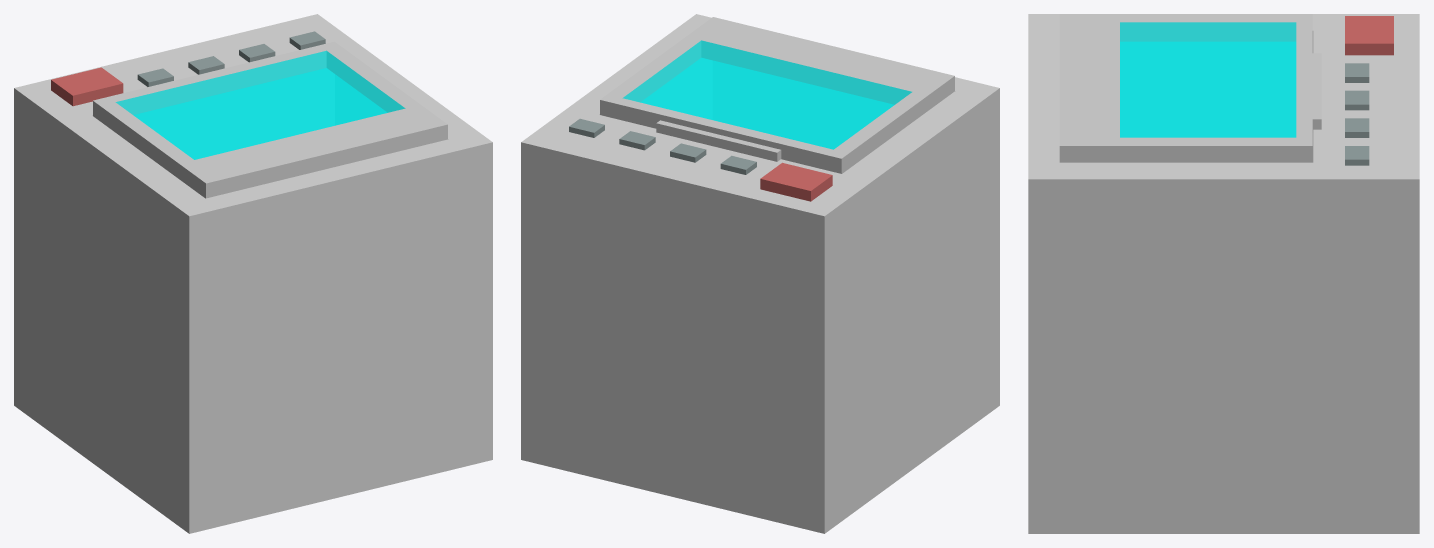
The model's file is washingMachine.fbx.
3 renders of one model, left to right at view 1: azimuth 30°, elevation 25°; view 2: azimuth 150°, elevation 25°; view 3: azimuth 270°, elevation 25°, orthographic. The views are drawn at different scales.
Visible parts, largest first — view 1: washingMachine, door; view 2: washingMachine, door; view 3: washingMachine, door.
Part boxes in pixels (x1,y1,x2,y2): washingMachine: (14, 14, 492, 533); door: (93, 41, 447, 198); washingMachine: (521, 14, 999, 533); door: (600, 17, 954, 173); washingMachine: (1028, 14, 1419, 533); door: (1059, 14, 1321, 162).
Bounding box in the file's own units: 210 × 220 × 210.
